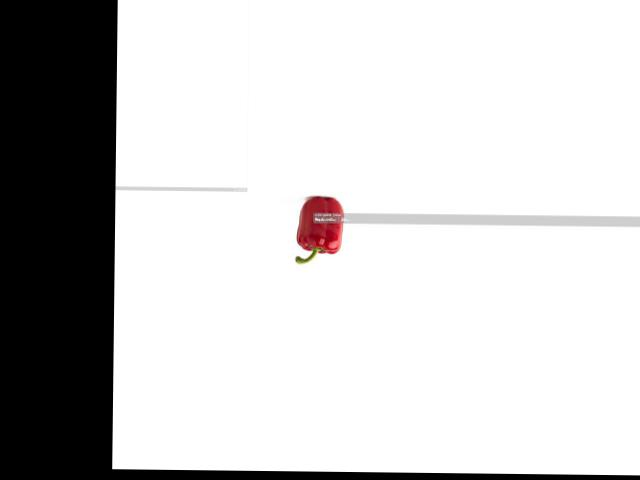bell_pepper: (288, 198, 347, 267)
